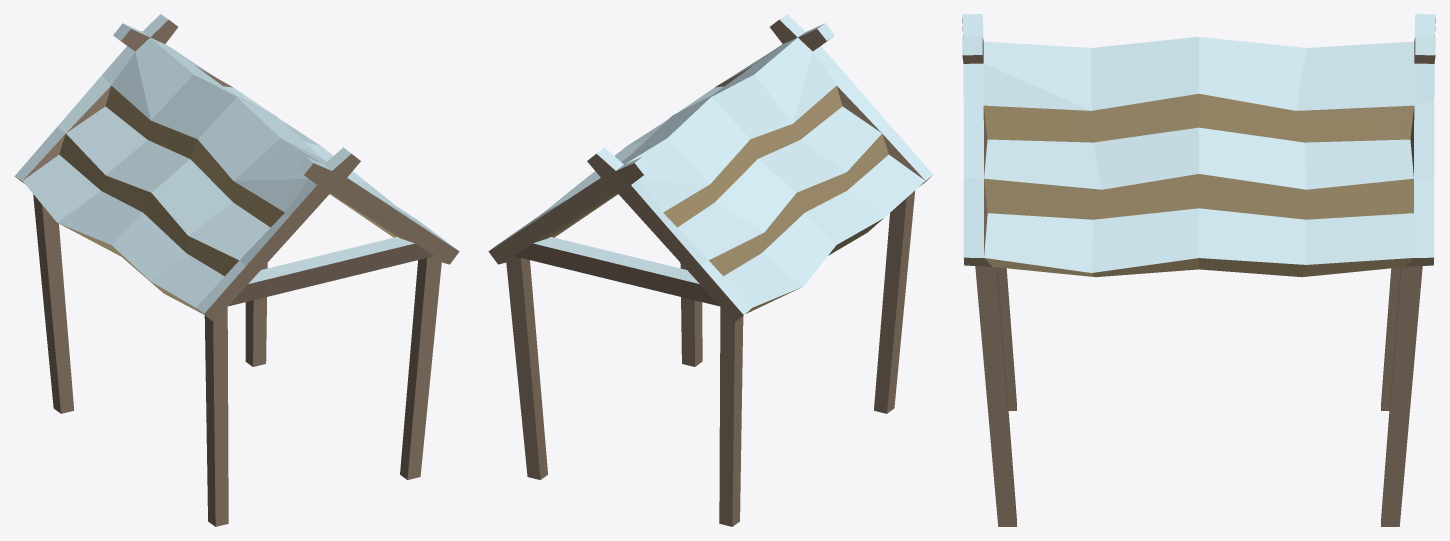
File: SM_Bld_Viking_Hut_02_Snow.glb
3 renders of one model, left to right at view 1: azimuth 30°, elevation 25°; view 2: azimuth 150°, elevation 25°; view 3: azimuth 270°, elevation 25°, orthographic. The views are drawn at different scales.
Parts seen in each view (by area): view 1: SM_Bld_Viking_Hut_02_Snow; view 2: SM_Bld_Viking_Hut_02_Snow; view 3: SM_Bld_Viking_Hut_02_Snow.
Boxes of the visible parts, x1,y1,x2,y2 form: SM_Bld_Viking_Hut_02_Snow: [14, 14, 459, 526]; SM_Bld_Viking_Hut_02_Snow: [488, 14, 933, 526]; SM_Bld_Viking_Hut_02_Snow: [962, 14, 1435, 526].
Size of the model in its own units: 1.04 by 1.29 by 1.26.
1 material, 1 textured.
